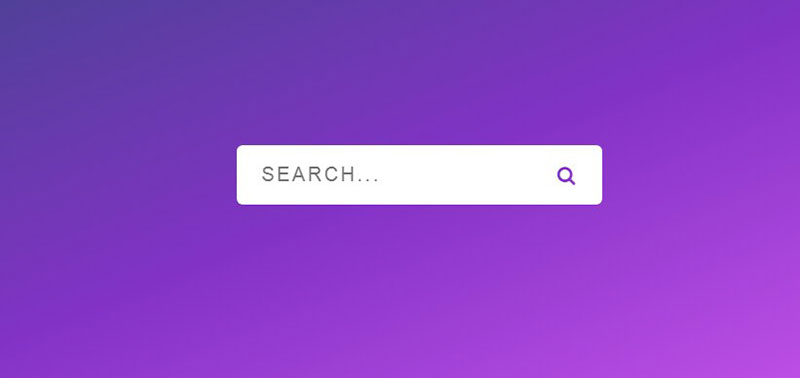search_box: (237, 143, 604, 204)
